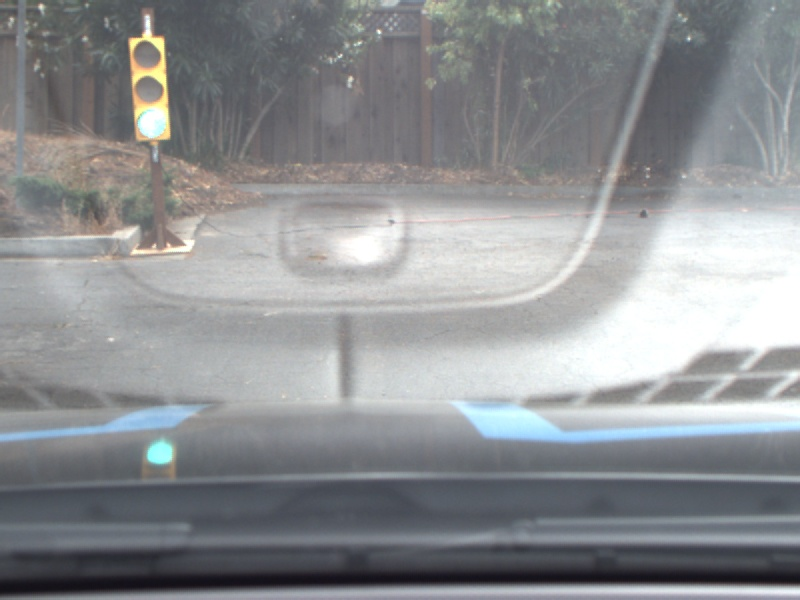green: (122, 24, 180, 148)
